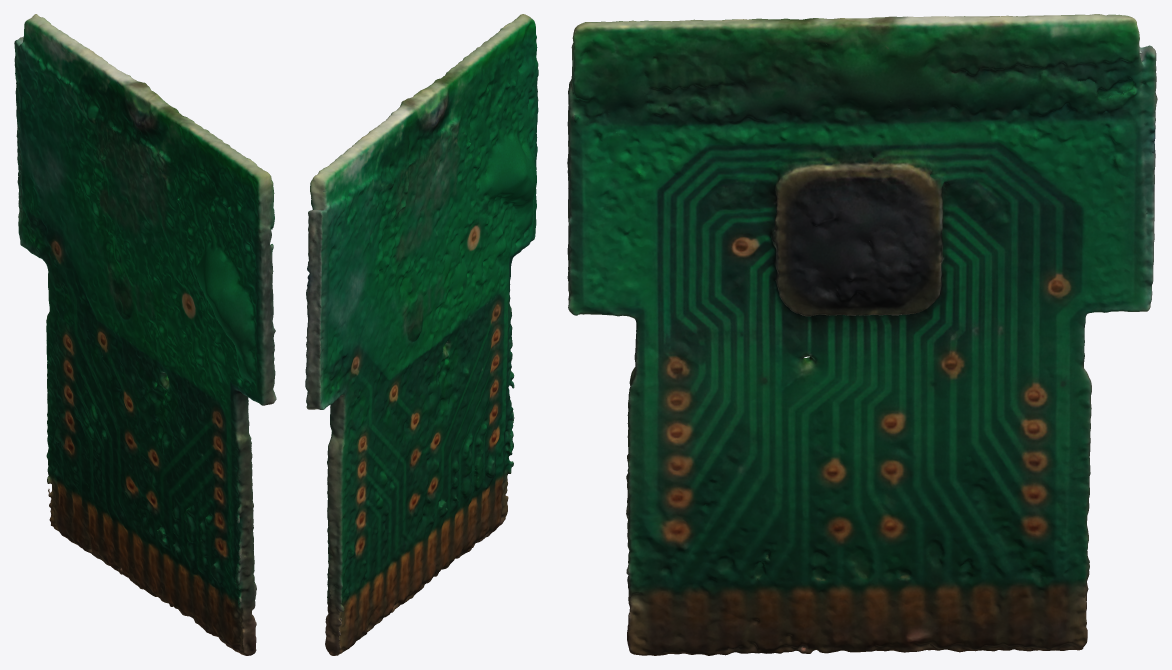
File: ewaste.glb
3 views of the same model, side by side, from view 1: azimuth 30°, elevation 25°; view 2: azimuth 150°, elevation 25°; view 3: azimuth 270°, elevation 25° (orthographic). The views are drawn at different scales.
Parts seen in each view (by area): view 1: Model; view 2: Model; view 3: Model.
Part boxes in pixels (bbox=[...]): Model: bbox=[14, 14, 276, 655]; Model: bbox=[305, 14, 538, 655]; Model: bbox=[567, 14, 1157, 655].
Size of the model in its own units: 0.0913 by 0.9933 by 0.8402.
Materials: 1 (1 with a texture image).
